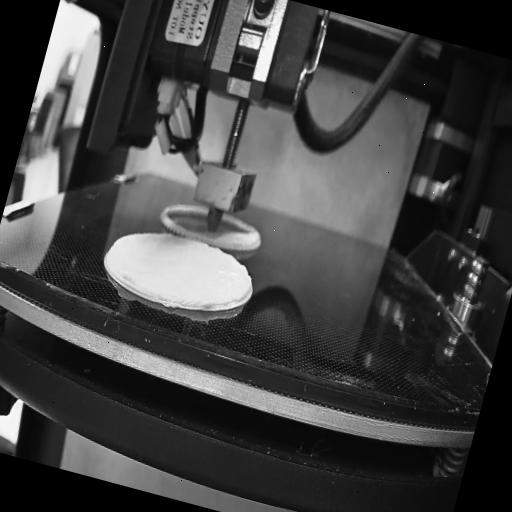over_extrusion: (228, 261, 256, 307)
